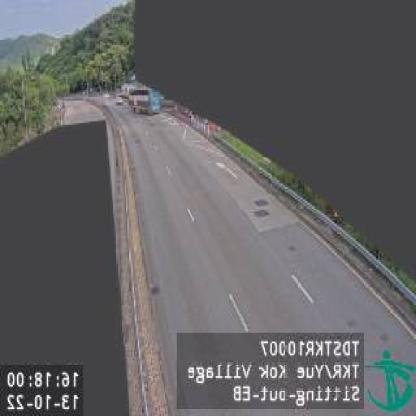Truck: (130, 85, 161, 115)
